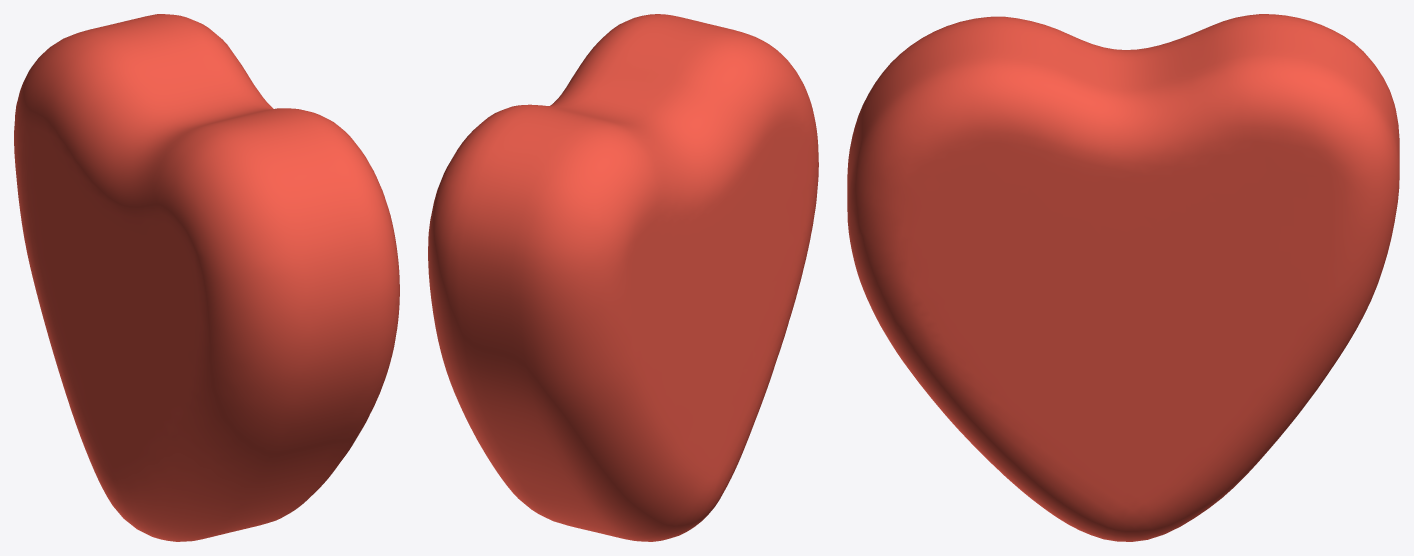
File: Heart_Pill_Individual_Red.glb
3 views of the same model, side by side, from view 1: azimuth 30°, elevation 25°; view 2: azimuth 150°, elevation 25°; view 3: azimuth 270°, elevation 25° (orthographic). The views are drawn at different scales.
Parts seen in each view (by area): view 1: Heart_Pill.011; view 2: Heart_Pill.011; view 3: Heart_Pill.011.
Part boxes in pixels (box(x1,y1,x2,y2)): Heart_Pill.011: box(14, 14, 399, 541); Heart_Pill.011: box(428, 14, 818, 541); Heart_Pill.011: box(847, 14, 1399, 541).
Bounding box in the file's own units: 0.6037 × 1.44 × 1.5.
Materials: 1 (1 with a texture image).
